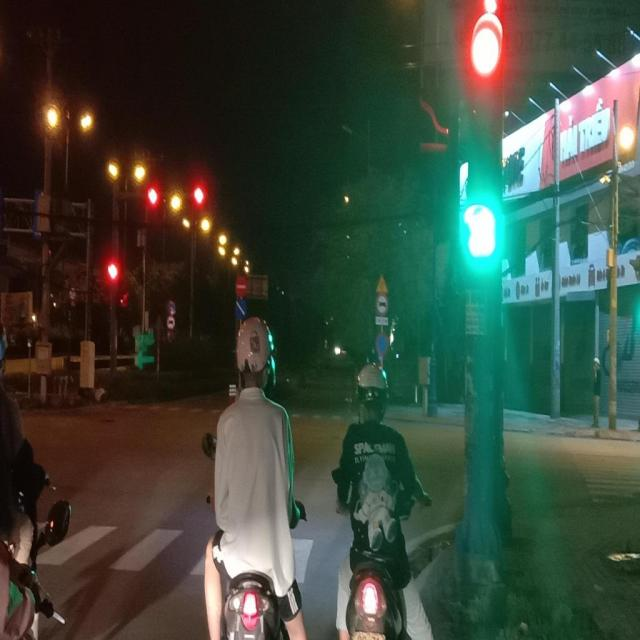cam_dung_xe_va_do_xe: (376, 332, 389, 356)
cam_o_to_tai: (376, 293, 389, 317), (167, 316, 175, 330)
cam_xe_di_nguoc_chieu: (234, 276, 248, 298)
huong_di_tren_moi_lan_duong_theo_vach_ke_duong: (235, 299, 247, 320)
khac: (375, 271, 389, 294)
